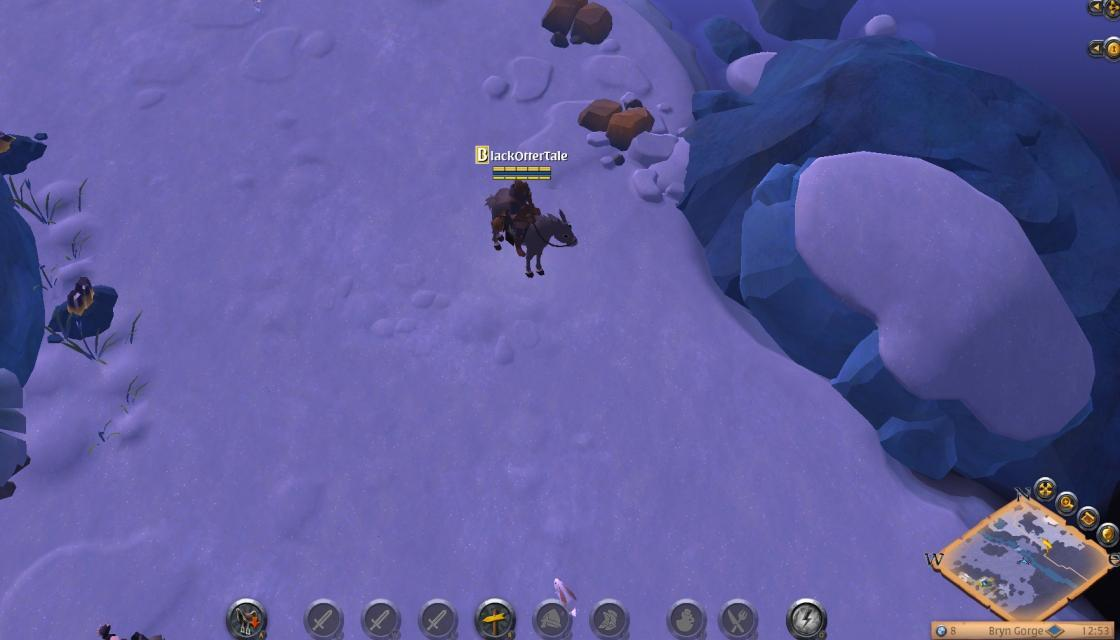copperore: (45, 277, 116, 344), (0, 119, 51, 174)
limestone: (576, 92, 660, 150), (539, 0, 617, 50)
